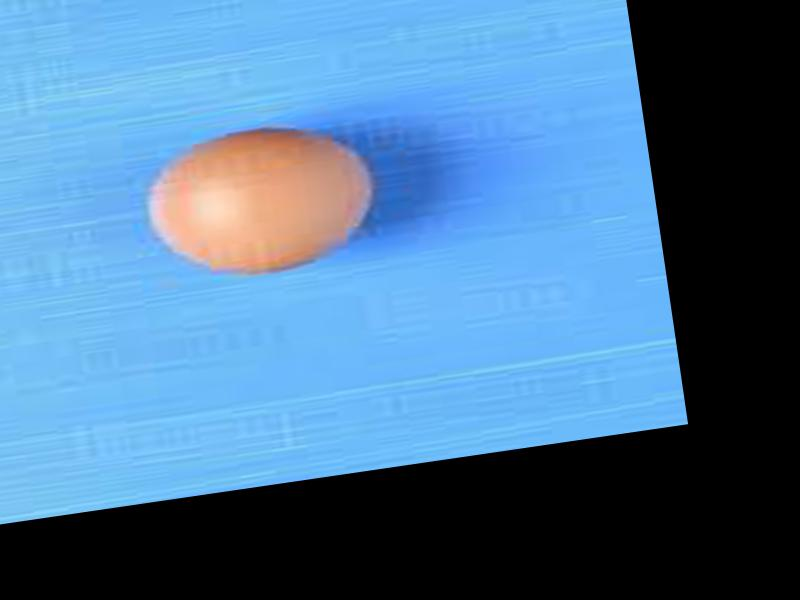Eggs: (135, 114, 389, 288)
